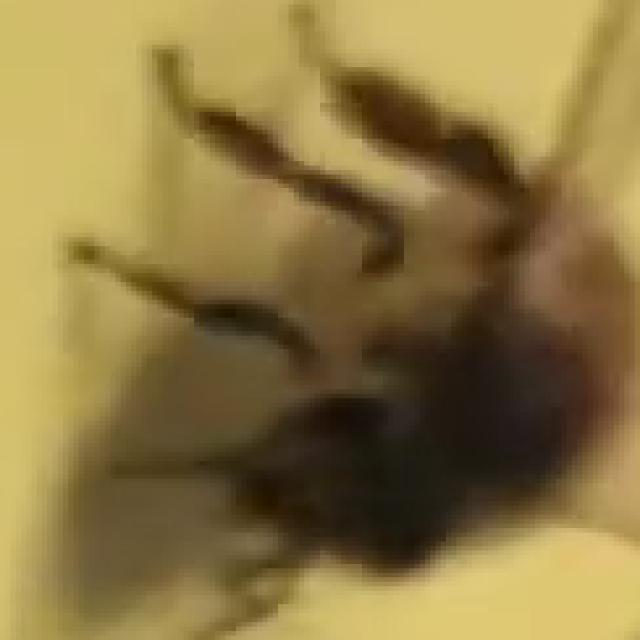honeybee: (99, 49, 640, 577)
